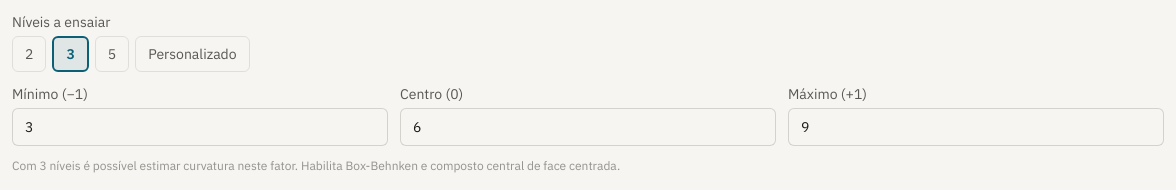
it: NiveisFator — fator quantitativo › voltar para 2 níveis remove levels do fator, preservando low e high
Click the radio button labelled "2": (29, 54) x1=12 y1=36 x2=46 y2=72
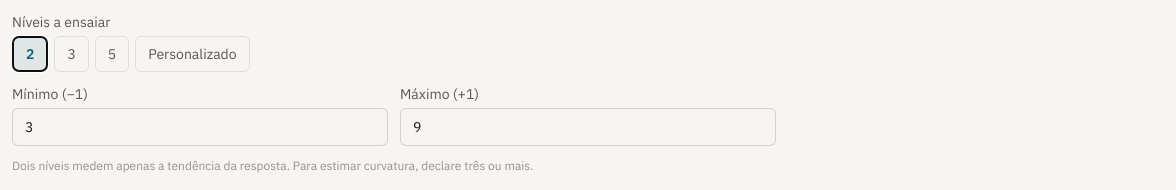
Result: the text labelled "Centro (0)" is gone
